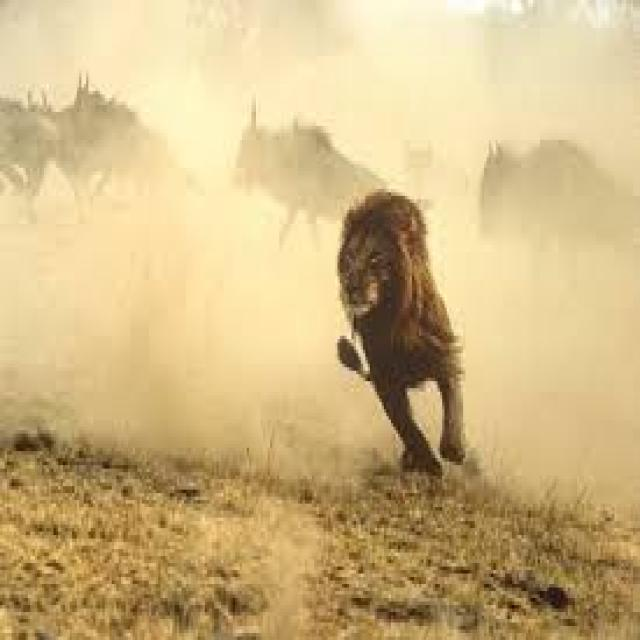Lion: (337, 191, 489, 481)
